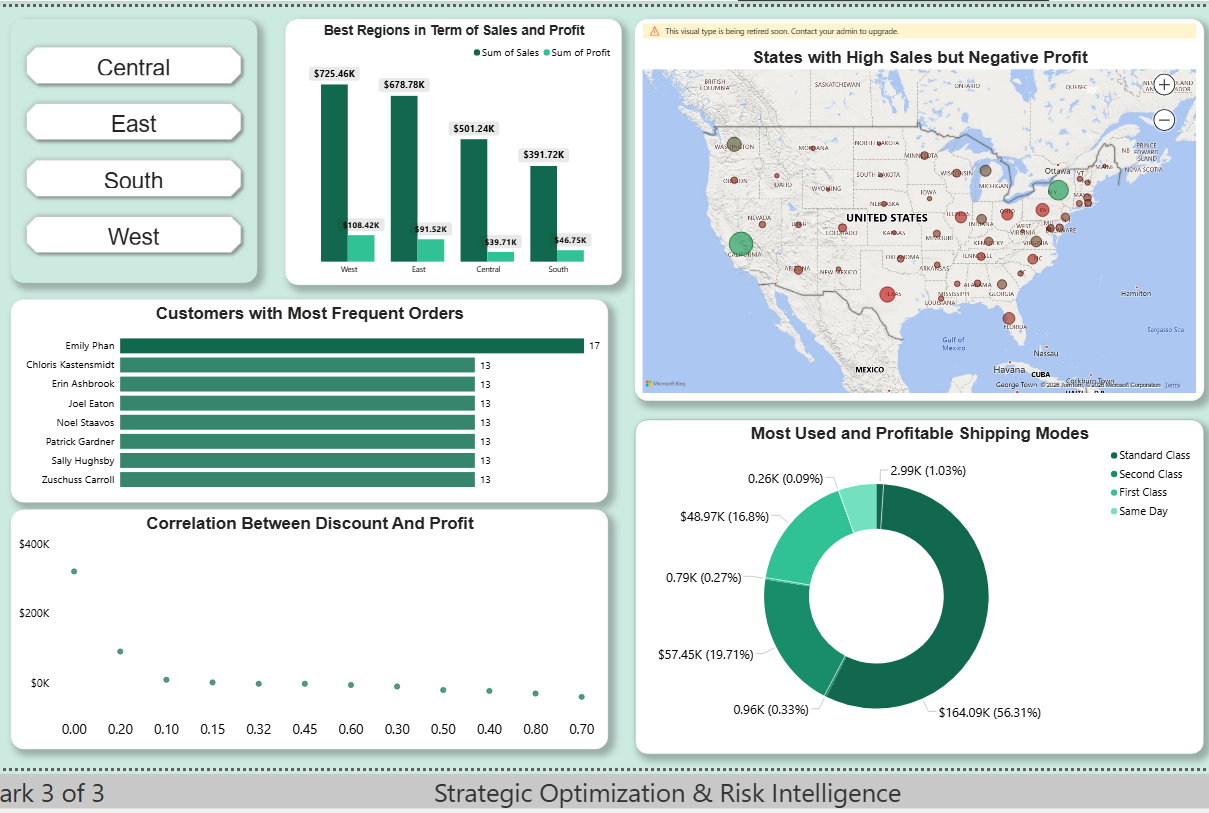

This screenshot's page, from the dashboard's own definition file:
{"tool":"powerbi","page":{"name":"Strategic Optimization & Risk Intelligence","canvas":[1920,1200],"ordinal":2},"visuals":[{"type":"barChart","title":"Customers with Most Frequent Orders","fields":{"Category":["Superstore.Customer_Name"],"Y":["Count(Superstore.Order_ID)"]},"box":[19.3,461.1,941.4,320.3],"z":0},{"type":"clusteredColumnChart","title":"Best Regions in Term of Sales and Profit","fields":{"Category":["Superstore.Region"],"Y":["Sum(Superstore.Sales)","Sum(Superstore.Profit)"]},"box":[452.8,19.3,530.1,419.6],"z":1000},{"type":"scatterChart","title":"Correlation Between Discount And Profit","fields":{"X":["Superstore.Discount"],"Y":["Sum(Superstore.Profit)"]},"box":[19.3,792.4,941.4,378.2],"z":2000},{"type":"donutChart","title":"Most Used and Profitable Shipping Modes","fields":{"Category":["Superstore.Ship_Mode"],"Y":["Count(Superstore.Order_ID)","Sum(Superstore.Profit)"]},"box":[1002.2,651.5,897.3,528],"z":3000},{"type":"advancedSlicerVisual","fields":{"Values":["Superstore.Region"]},"box":[18.9,18.9,387.9,416.3],"z":4000},{"type":"map","title":"States with High Sales but Negative Profit","fields":{"Category":["Superstore.State"],"Size":["Sum(Superstore.Sales)"]},"box":[1002.2,19.3,897.3,601.9],"z":5000}]}

Visuals, with their boxes on the page's 1920x1200 design canvas (x1, y1, x2, y2). These are canvas units, not pixel positions in the 1209x813 screenshot, which may show the page scaled, cropped or inside an application window:
"Customers with Most Frequent Orders" barChart: select_region(19, 461, 961, 781)
"Best Regions in Term of Sales and Profit" clusteredColumnChart: select_region(453, 19, 983, 439)
"Correlation Between Discount And Profit" scatterChart: select_region(19, 792, 961, 1171)
"Most Used and Profitable Shipping Modes" donutChart: select_region(1002, 652, 1900, 1180)
advancedSlicerVisual - Superstore.Region: select_region(19, 19, 407, 435)
"States with High Sales but Negative Profit" map: select_region(1002, 19, 1900, 621)
